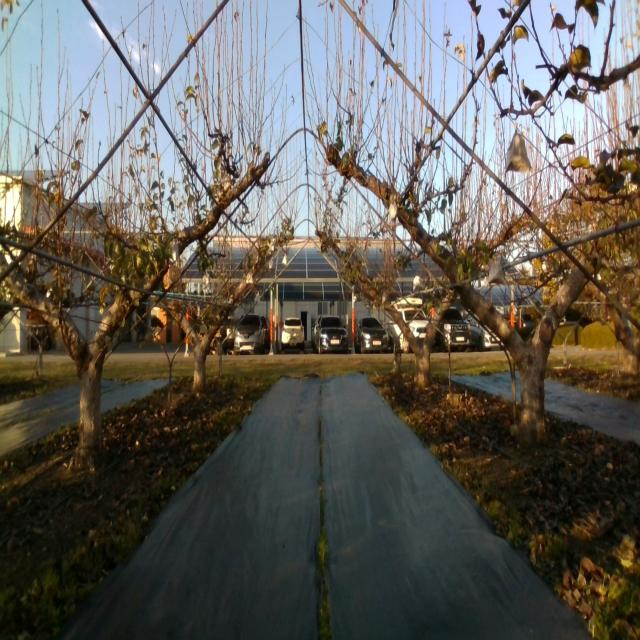pearbags: (506, 132, 531, 174), (488, 260, 507, 284)
